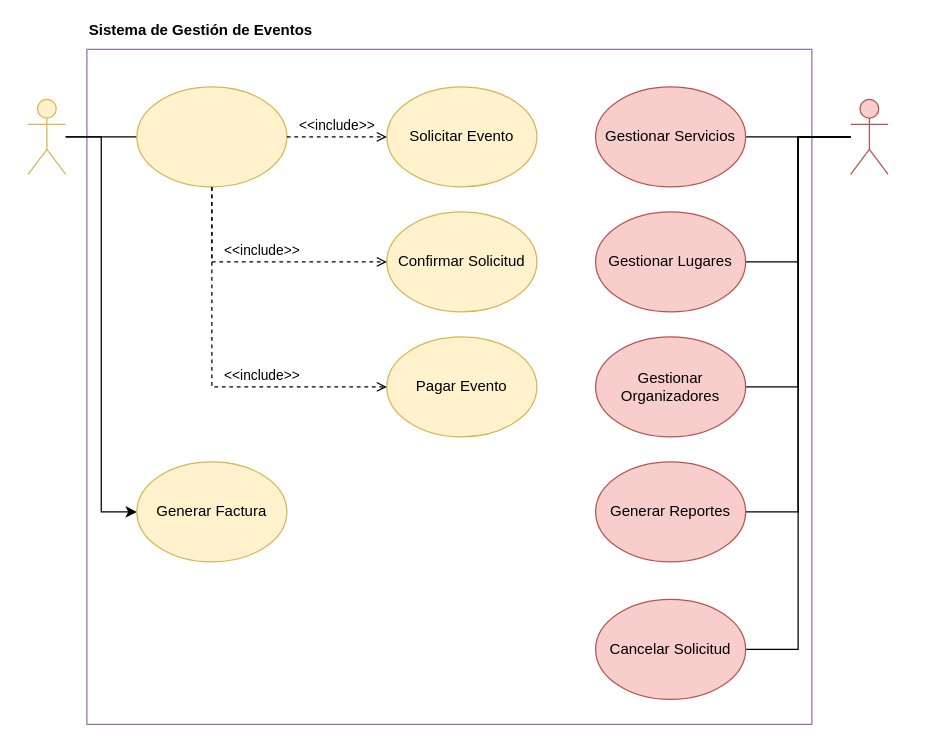
Some shapes in this 938 by 746 pixel diagram are drawn without their labels. Here are the shapes that lost their labels. From the top down, the box of each, then its label:
(27, 98, 66, 174): Usuario
(136, 86, 287, 187): Gestionar Solicitud de Evento
(849, 98, 888, 174): Administrador
